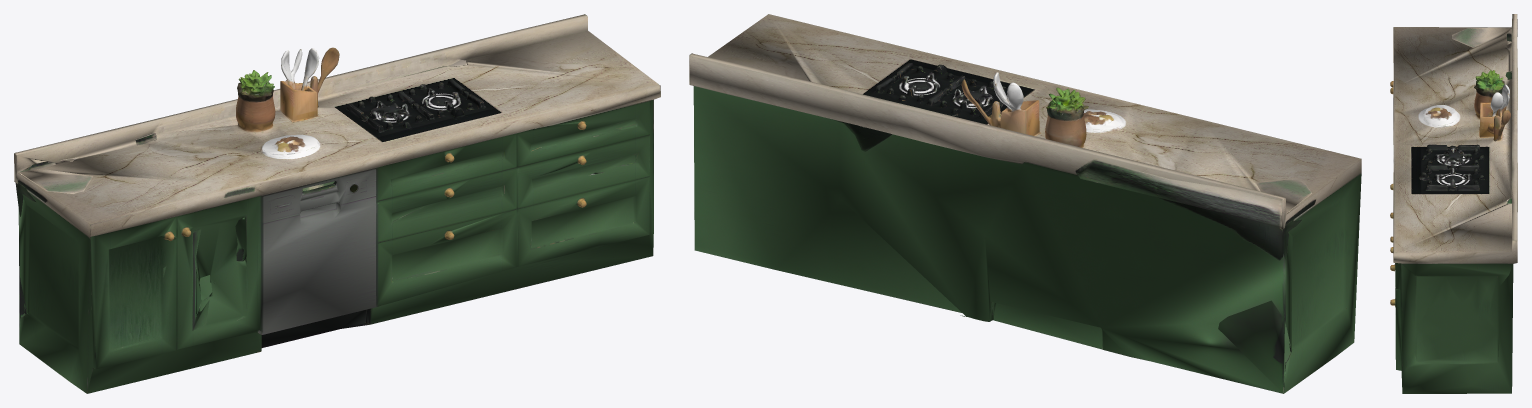
Rendered from Meshy_AI_Green_Kitchen_Island__0610184339_texture.fbx.
3 renders of one model, left to right at view 1: azimuth 30°, elevation 25°; view 2: azimuth 150°, elevation 25°; view 3: azimuth 270°, elevation 25°, orthographic. The views are drawn at different scales.
Parts seen in each view (by area): view 1: Mesh_0; view 2: Mesh_0; view 3: Mesh_0.
Part boxes in pixels (x1=…): Mesh_0: x1=14, y1=14, x2=660, y2=393; Mesh_0: x1=689, y1=14, x2=1361, y2=393; Mesh_0: x1=1390, y1=14, x2=1517, y2=393.
Bounding box in the file's own units: 191 × 74.71 × 45.54.
1 material, 1 textured.
